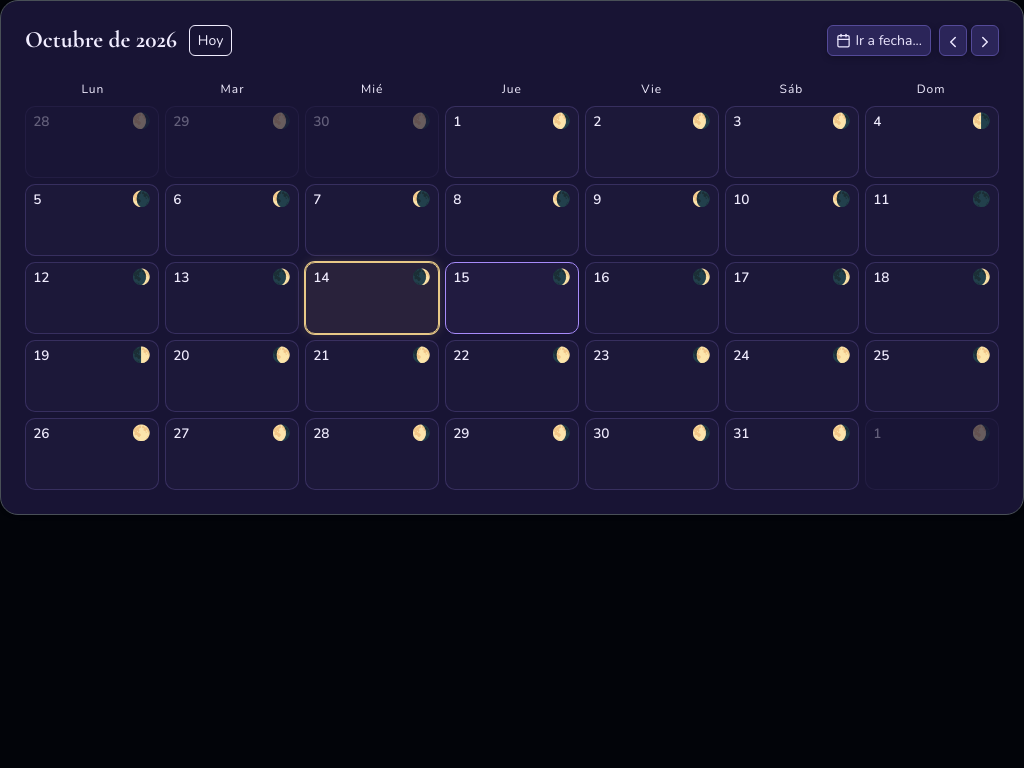
Test case: CalendarView Component › permite cambiar de mes al pulsar los botones anterior y siguiente
The width and height of the screenshot is (1024, 768).
# Navegar al mes siguiente (Noviembre)
What coordinates should you click on to do the following:
click the button named "Mes siguiente"
I would click on:
 (985, 40)
Its box is [971, 25, 999, 56].
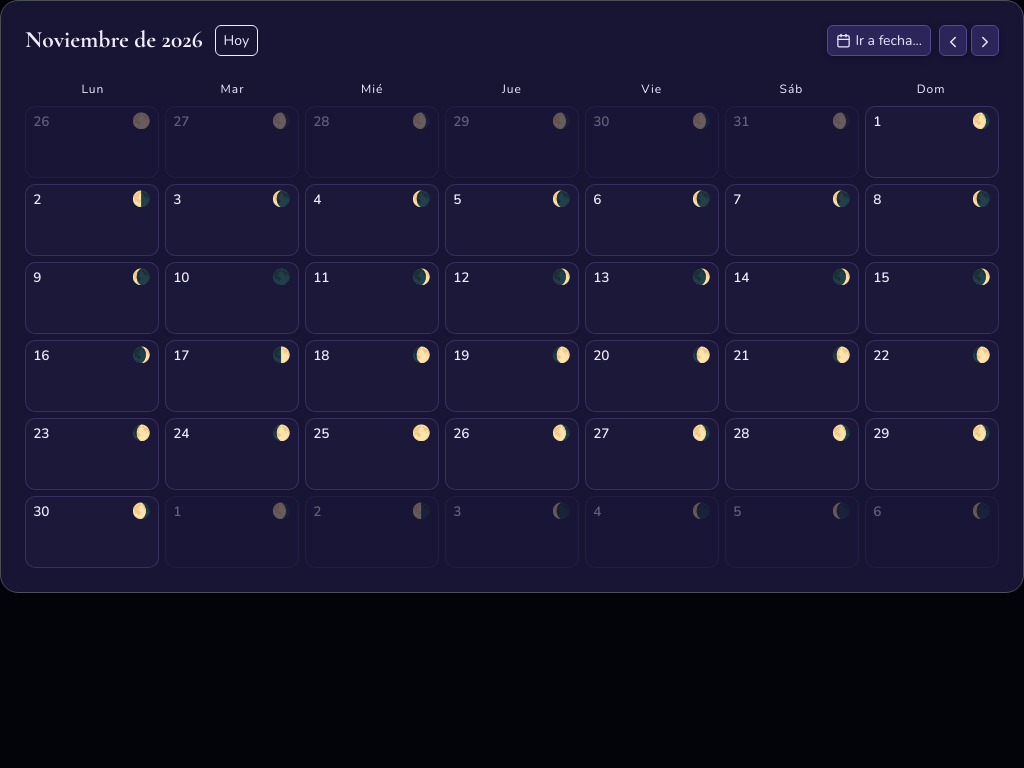
Expected: the heading "Noviembre de 2026" is shown, [25, 26, 202, 55]
What coordinates should you click on to do the following:
click the button named "Mes anterior"
I would click on:
 (953, 40)
Its box is [939, 25, 967, 56].
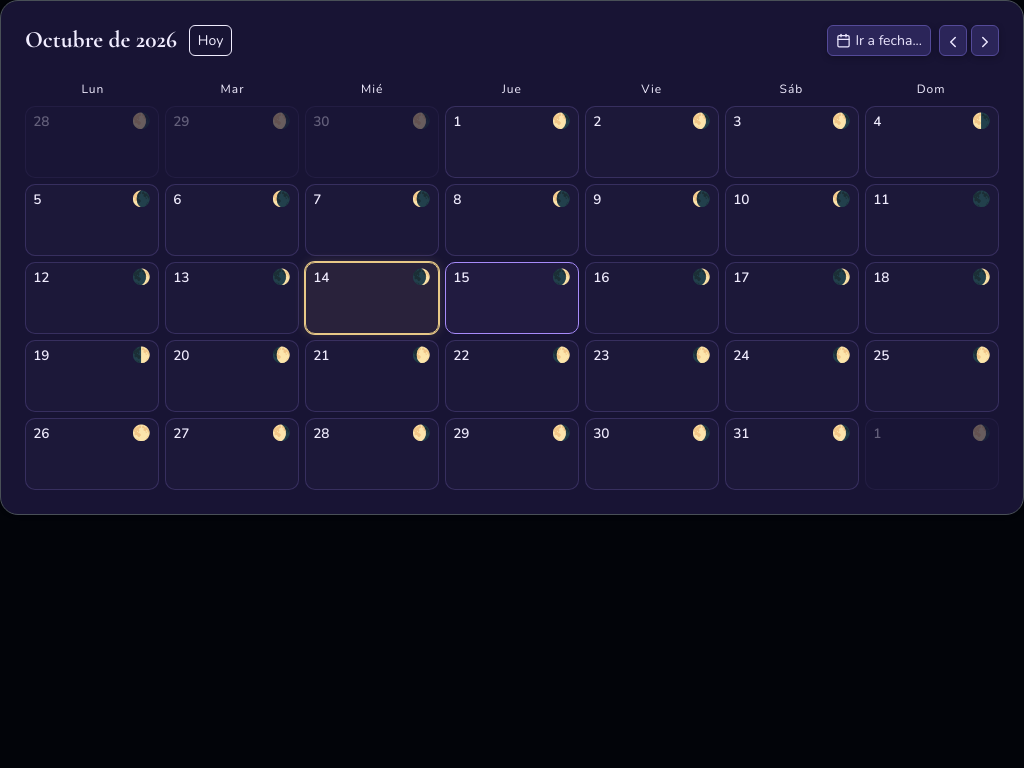
What coordinates should you click on to do the following:
click the button named "Mes anterior"
I would click on:
 (953, 40)
Its box is [939, 25, 967, 56].
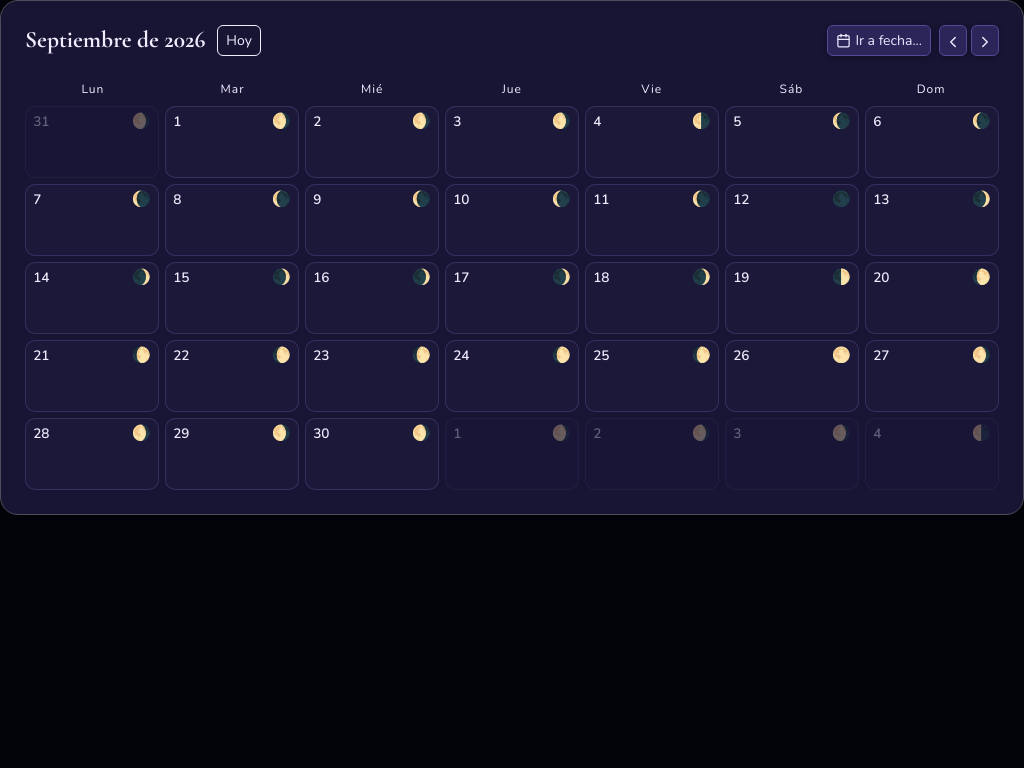
Expected: the heading "Septiembre de 2026" is shown, [25, 26, 205, 55]
